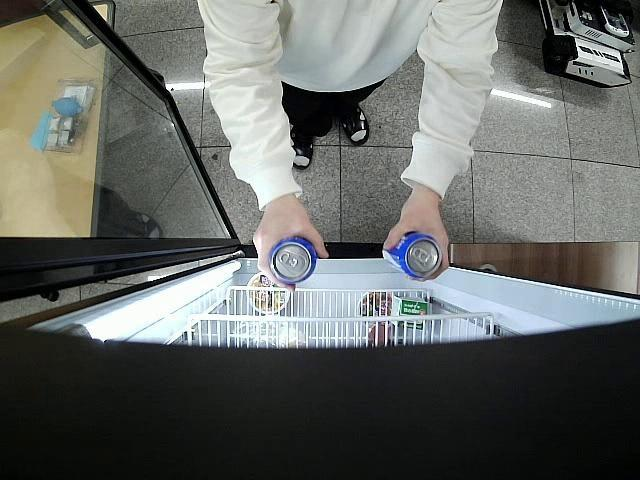13_pocariSweat: (381, 233, 442, 281), (268, 236, 316, 282)
